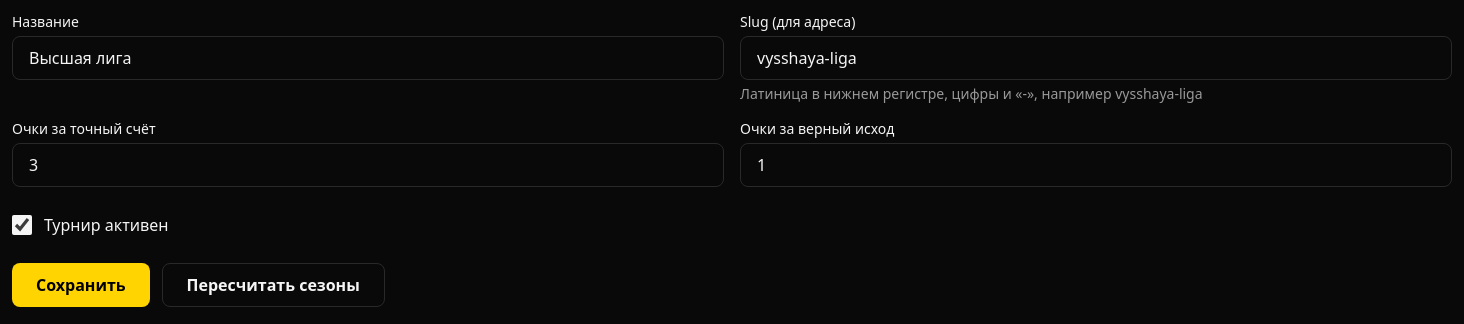
Test: TournamentForm › re-grades the seasons of an existing tournament and reports how many
Click the button "Пересчитать сезоны". click: x=273, y=285
box: left=162, top=263, right=385, bottom=307
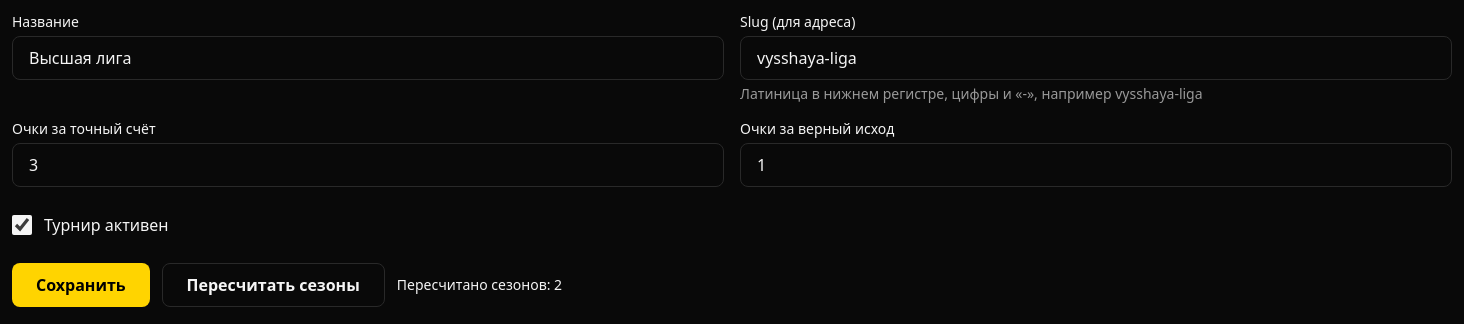
Result: the text "Пересчитано сезонов: 2" is shown at left=397, top=275, right=562, bottom=294
